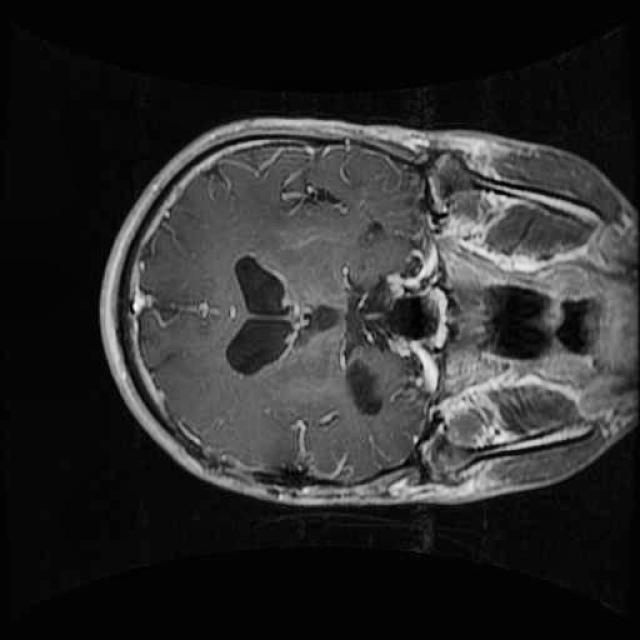Non-Tumor: (334, 350, 394, 430)
